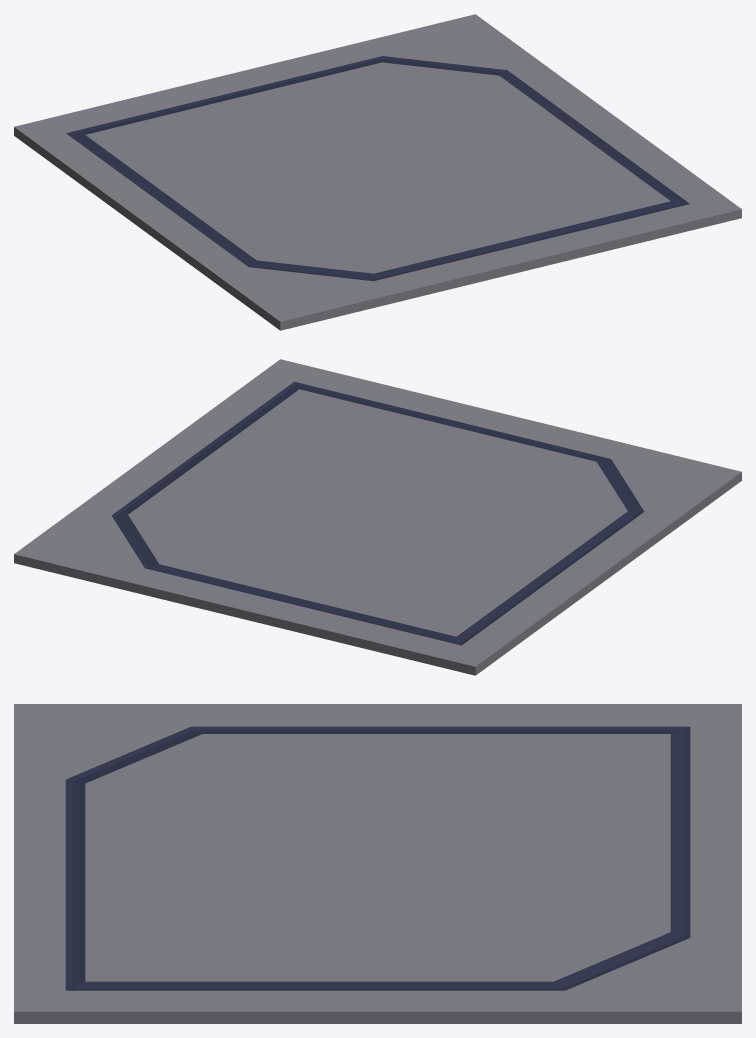
The model's file is Floor.fbx.
The picture shows the model from 3 angles, top to bottom: view 1: azimuth 30°, elevation 25°; view 2: azimuth 150°, elevation 25°; view 3: azimuth 270°, elevation 25°; orthographic projection. The views are drawn at different scales.
Visible parts, largest first — view 1: Floor; view 2: Floor; view 3: Floor.
Boxes of the visible parts, left/top/right/bottom form: Floor: left=14, top=14, right=741, bottom=330; Floor: left=14, top=359, right=741, bottom=675; Floor: left=14, top=704, right=741, bottom=1023.
Bounding box in the file's own units: 700 × 12.94 × 700.
